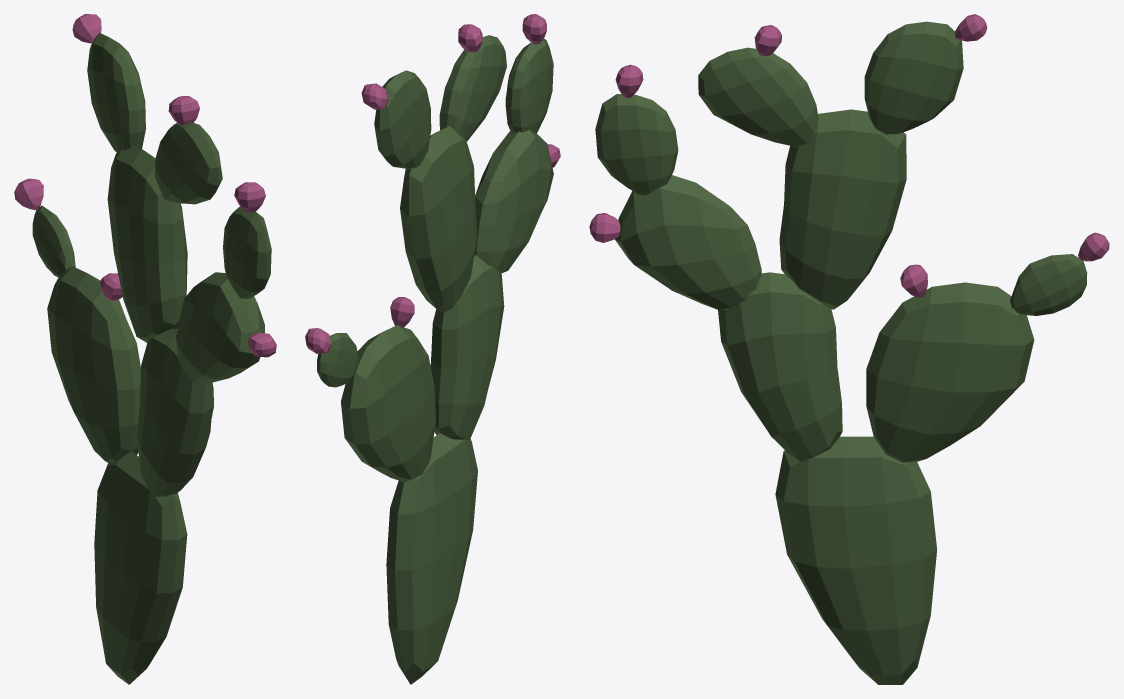
File: CactusFlowers_4.glb
3 views of the same model, side by side, from view 1: azimuth 30°, elevation 25°; view 2: azimuth 150°, elevation 25°; view 3: azimuth 270°, elevation 25° (orthographic). The views are drawn at different scales.
Parts seen in each view (by area): view 1: CactusFlowers_4_Cube.008; view 2: CactusFlowers_4_Cube.008; view 3: CactusFlowers_4_Cube.008.
Part boxes in pixels (x1,y1,x2,y2): CactusFlowers_4_Cube.008: (14, 14, 276, 684); CactusFlowers_4_Cube.008: (305, 14, 560, 684); CactusFlowers_4_Cube.008: (589, 14, 1109, 684).
Bounding box in the file's own units: 0.11 × 1.38 × 0.9719.
